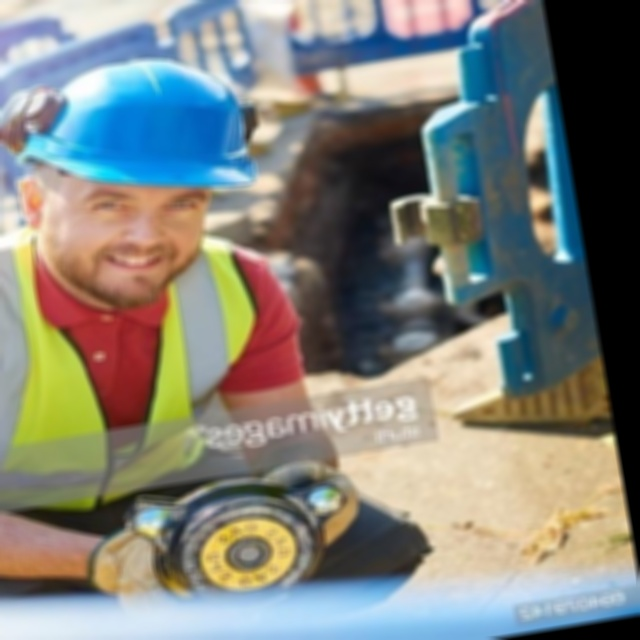Con_Casco: (0, 31, 281, 314)
